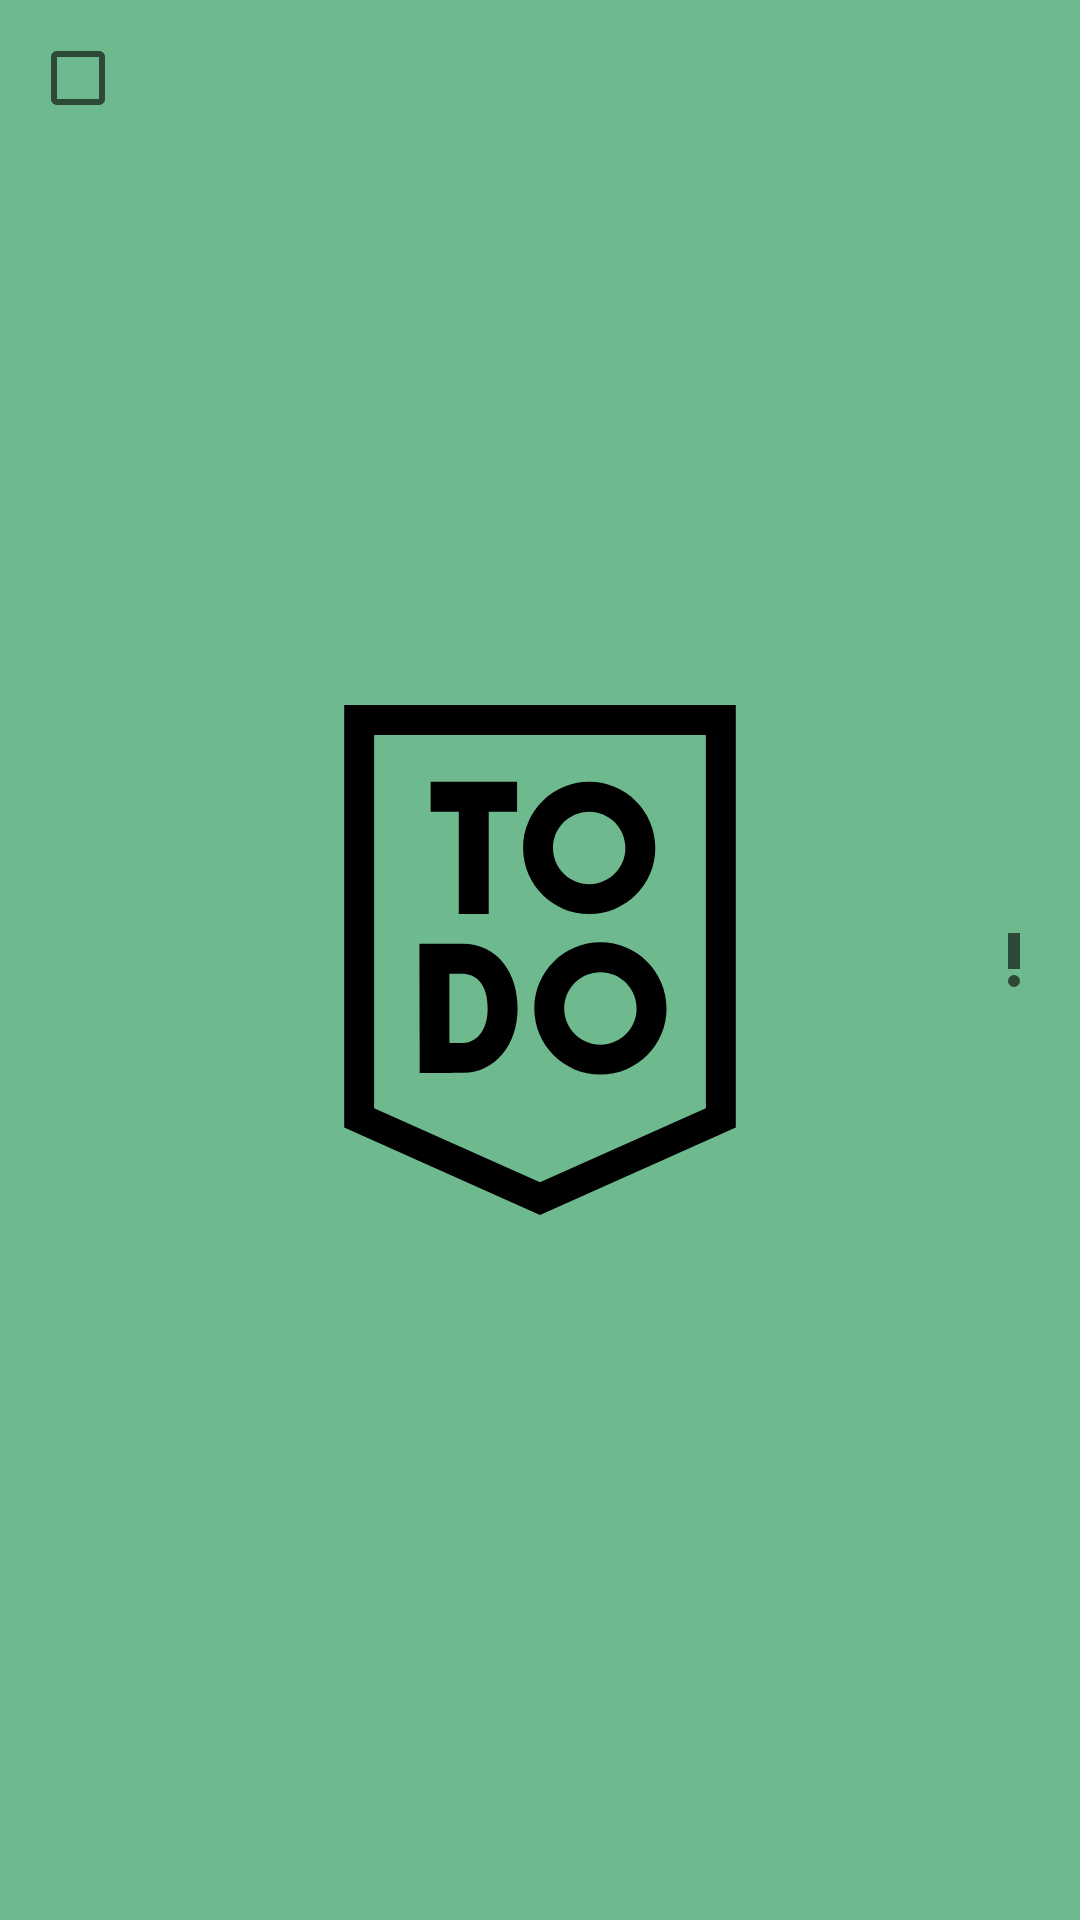

Icons on this 1080 x 1920 Android screen, each with its box as (x1=x1, y1=y1, x2=x2, y2=y2):
priority: (x1=1008, y1=933, x2=1020, y2=987)
